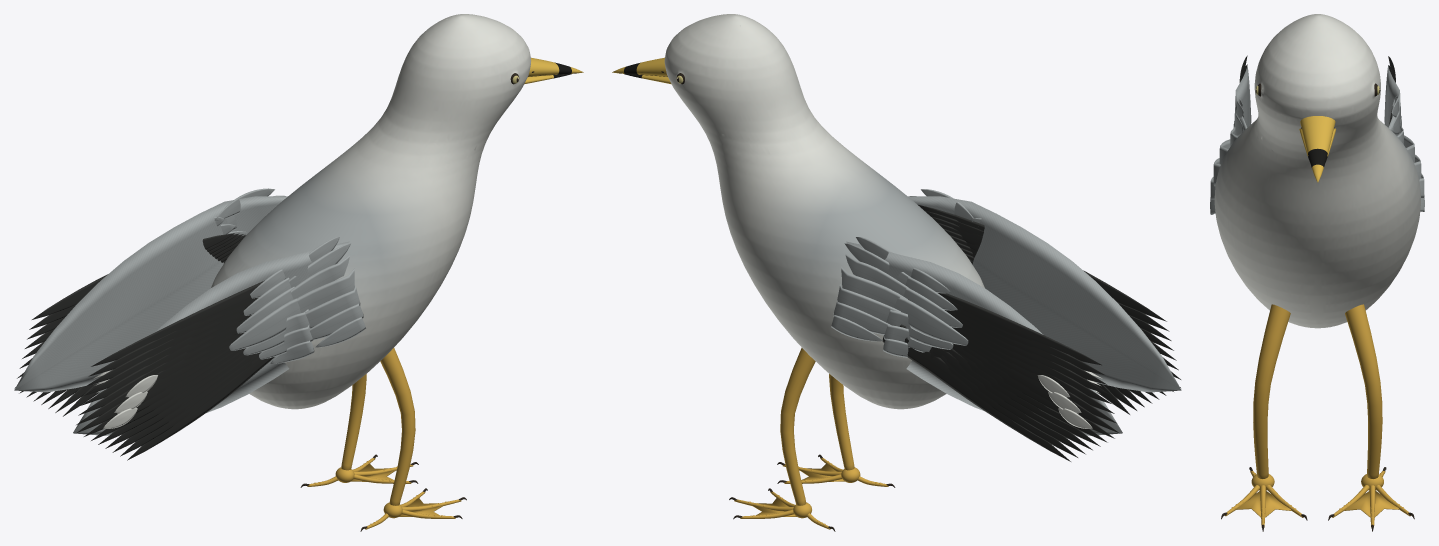
The model's file is seagull.glb.
The picture shows the model from 3 angles, left to right: view 1: azimuth 30°, elevation 25°; view 2: azimuth 150°, elevation 25°; view 3: azimuth 270°, elevation 25°; orthographic projection. The views are drawn at different scales.
Parts seen in each view (by area): view 1: Continuous anatomical skin | seagull, Cambered folded wing foundation.001, Cambered folded wing foundation, Gull bare leg root hock and ankle, Overlapping closed flight feather 00, Overlapping closed flight feather 14, Layered wing covert 1 3, Gull bare leg root hock and ankle.001, Overlapping closed flight feather 02, Overlapping closed flight feather 03, Overlapping closed flight feather 01, Overlapping closed flight feather 04 (+18 smaller); view 2: Continuous anatomical skin | seagull, Cambered folded wing foundation, Cambered folded wing foundation.001, Gull bare leg root hock and ankle.001, Overlapping closed flight feather 00.001, Overlapping closed flight feather 14.001, Layered wing covert 1 3.001, Overlapping closed flight feather 02.001, Gull bare leg root hock and ankle, Overlapping closed flight feather 03.001, Overlapping closed flight feather 11.001, Layered wing covert 0 3.001 (+19 smaller); view 3: Continuous anatomical skin | seagull, Gull bare leg root hock and ankle, Gull bare leg root hock and ankle.001, Closed upper hooked bill, Cambered folded wing foundation, Cambered folded wing foundation.001, Closed flexible interdigital web, Closed flexible interdigital web.002, Closed flexible interdigital web.003, Closed flexible interdigital web.001.
Part boxes in pixels (box(x1,y1,x2,y2)): Continuous anatomical skin | seagull: box(211, 14, 530, 409); Cambered folded wing foundation.001: box(14, 196, 287, 392); Cambered folded wing foundation: box(73, 241, 349, 435); Gull bare leg root hock and ankle: box(380, 348, 415, 505); Overlapping closed flight feather 00: box(91, 280, 264, 366); Overlapping closed flight feather 14: box(127, 357, 274, 460); Layered wing covert 1 3: box(229, 298, 300, 350); Gull bare leg root hock and ankle.001: box(341, 374, 366, 470); Overlapping closed flight feather 02: box(86, 313, 251, 386); Overlapping closed flight feather 03: box(83, 316, 250, 395); Overlapping closed flight feather 01: box(88, 306, 247, 376); Overlapping closed flight feather 04: box(81, 327, 237, 405); Continuous anatomical skin | seagull: box(664, 14, 984, 409); Cambered folded wing foundation: box(908, 196, 1181, 392); Cambered folded wing foundation.001: box(846, 241, 1122, 435); Gull bare leg root hock and ankle.001: box(780, 347, 815, 505); Overlapping closed flight feather 00.001: box(882, 336, 1070, 461); Overlapping closed flight feather 14.001: box(938, 293, 1101, 365); Layered wing covert 1 3.001: box(894, 296, 968, 345); Overlapping closed flight feather 02.001: box(899, 324, 1085, 454); Gull bare leg root hock and ankle: box(829, 374, 854, 470); Overlapping closed flight feather 03.001: box(943, 349, 1092, 450); Overlapping closed flight feather 11.001: box(945, 310, 1109, 394); Layered wing covert 0 3.001: box(841, 266, 907, 307); Continuous anatomical skin | seagull: box(1214, 14, 1420, 328); Gull bare leg root hock and ankle: box(1253, 304, 1290, 478); Gull bare leg root hock and ankle.001: box(1345, 304, 1382, 478); Closed upper hooked bill: box(1300, 116, 1335, 182); Cambered folded wing foundation: box(1235, 66, 1251, 135); Cambered folded wing foundation.001: box(1384, 66, 1400, 135); Closed flexible interdigital web: box(1265, 491, 1290, 517); Closed flexible interdigital web.002: box(1344, 491, 1370, 517); Closed flexible interdigital web.003: box(1374, 491, 1398, 517); Closed flexible interdigital web.001: box(1236, 491, 1260, 517).
Size of the model in its own units: 0.4795 by 0.392 by 0.1451.
13 materials, 13 textured.
